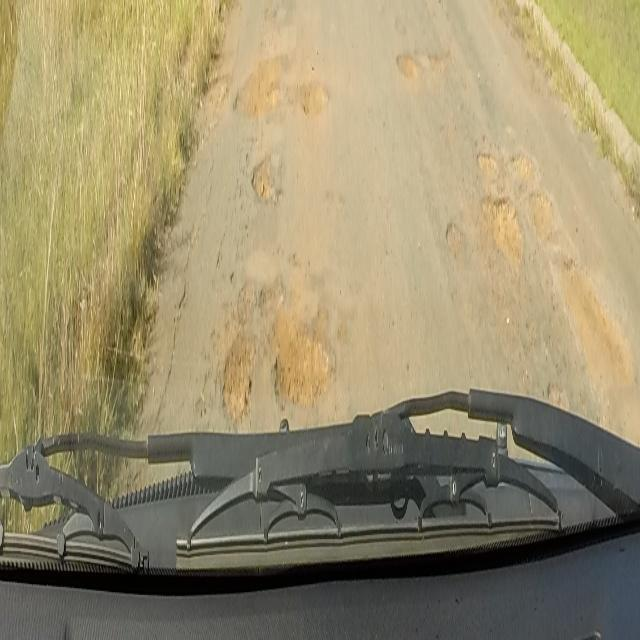pothole: (527, 192, 631, 391), (270, 319, 336, 409), (220, 327, 258, 422), (480, 194, 522, 274), (233, 69, 280, 117), (300, 77, 330, 117), (249, 152, 270, 204), (394, 45, 419, 80), (506, 152, 535, 180), (474, 148, 498, 176)
